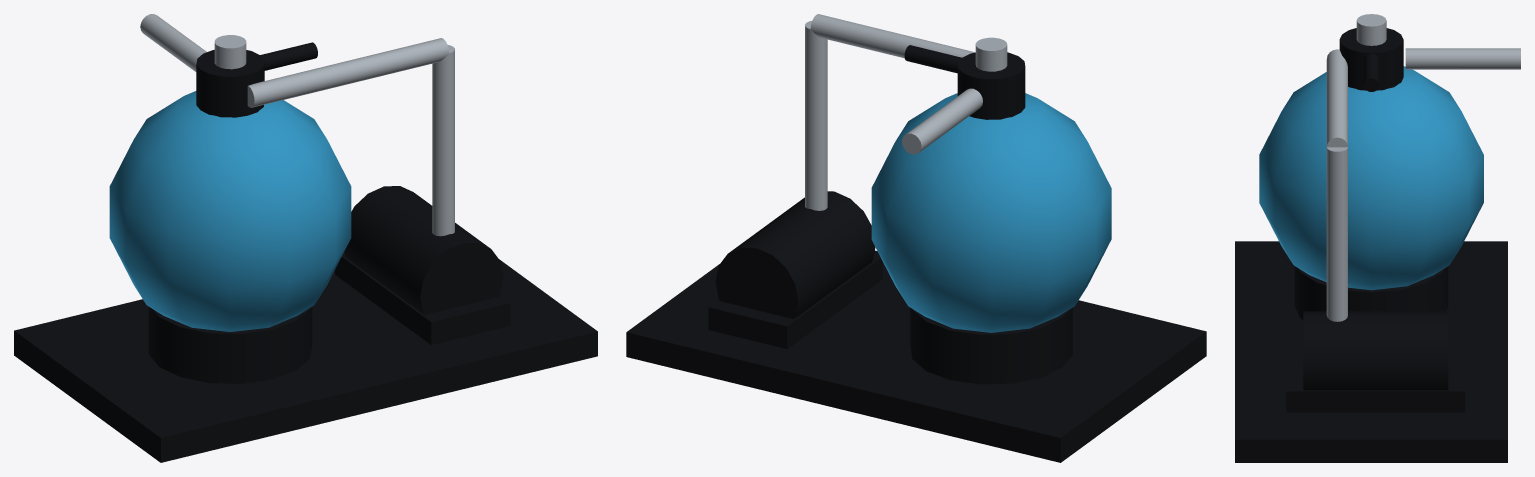
Rendered from Vizforgato_homokszurovel.obj.
3 renders of one model, left to right at view 1: azimuth 30°, elevation 25°; view 2: azimuth 150°, elevation 25°; view 3: azimuth 270°, elevation 25°, orthographic. The views are drawn at different scales.
Bounding box in the file's own units: 1.1 × 0.8 × 0.67.
